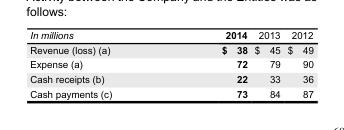table: (29, 29, 312, 98)
table column: (29, 29, 166, 98), (166, 29, 250, 98), (250, 29, 283, 98), (283, 29, 312, 98)
table column header: (29, 29, 312, 41)
table row: (29, 41, 312, 56), (29, 56, 312, 71), (29, 71, 312, 85), (29, 85, 312, 98), (29, 29, 312, 41)
